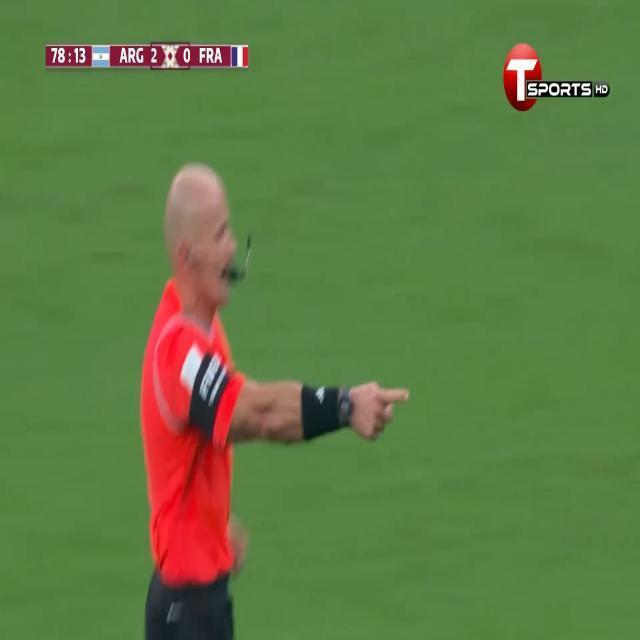referee: (132, 147, 414, 640)
